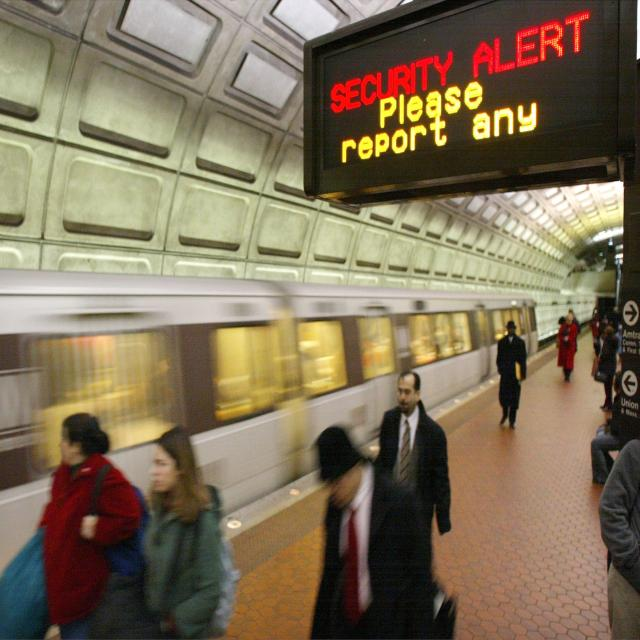body: (0, 401, 151, 640), (306, 422, 456, 640), (140, 425, 222, 640), (372, 369, 452, 537), (597, 438, 640, 640), (492, 318, 529, 430), (590, 370, 622, 484), (555, 309, 579, 386), (598, 325, 617, 412), (598, 299, 621, 356), (587, 305, 603, 364), (563, 309, 581, 352)
